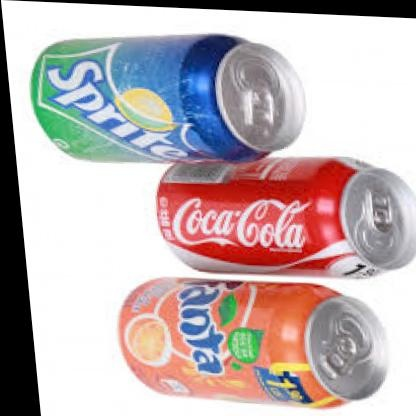trash: (119, 278, 385, 406), (32, 35, 304, 160), (157, 158, 415, 273)
